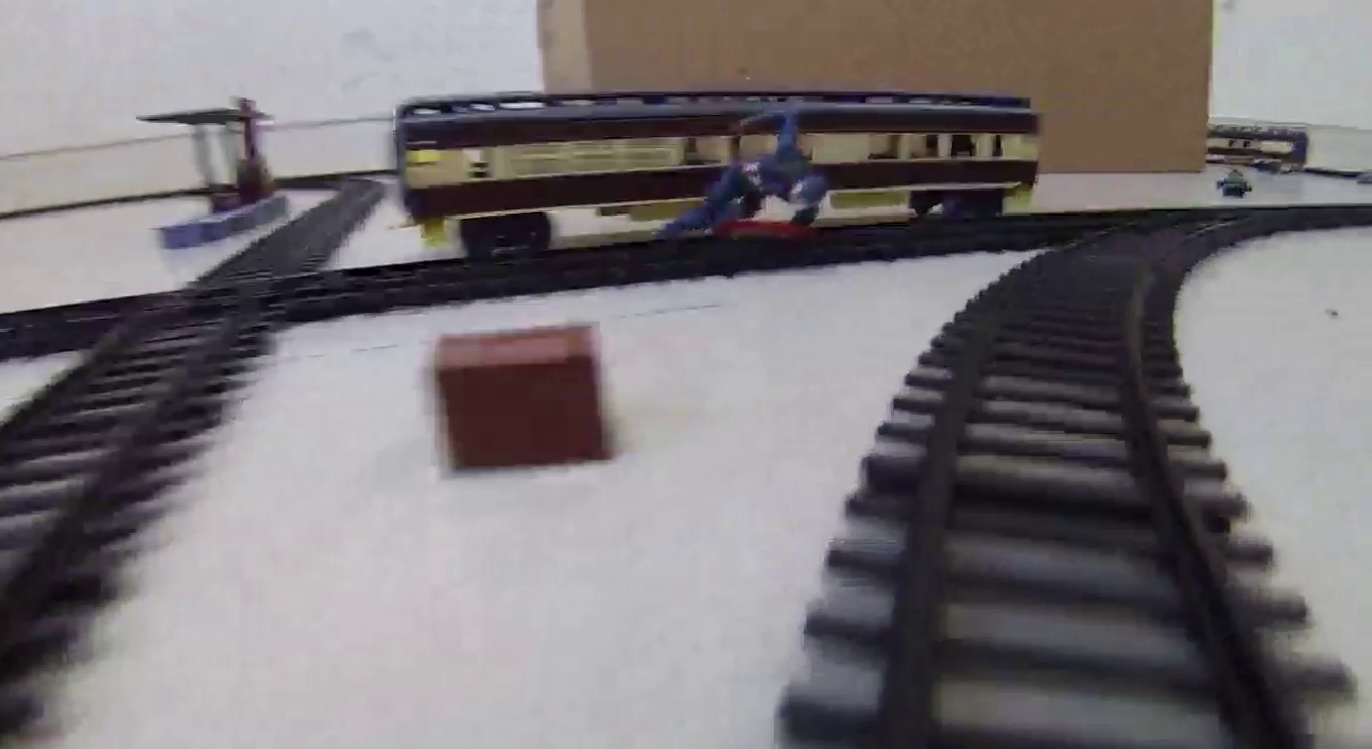box: (425, 321, 615, 472)
people: (650, 109, 828, 234)
